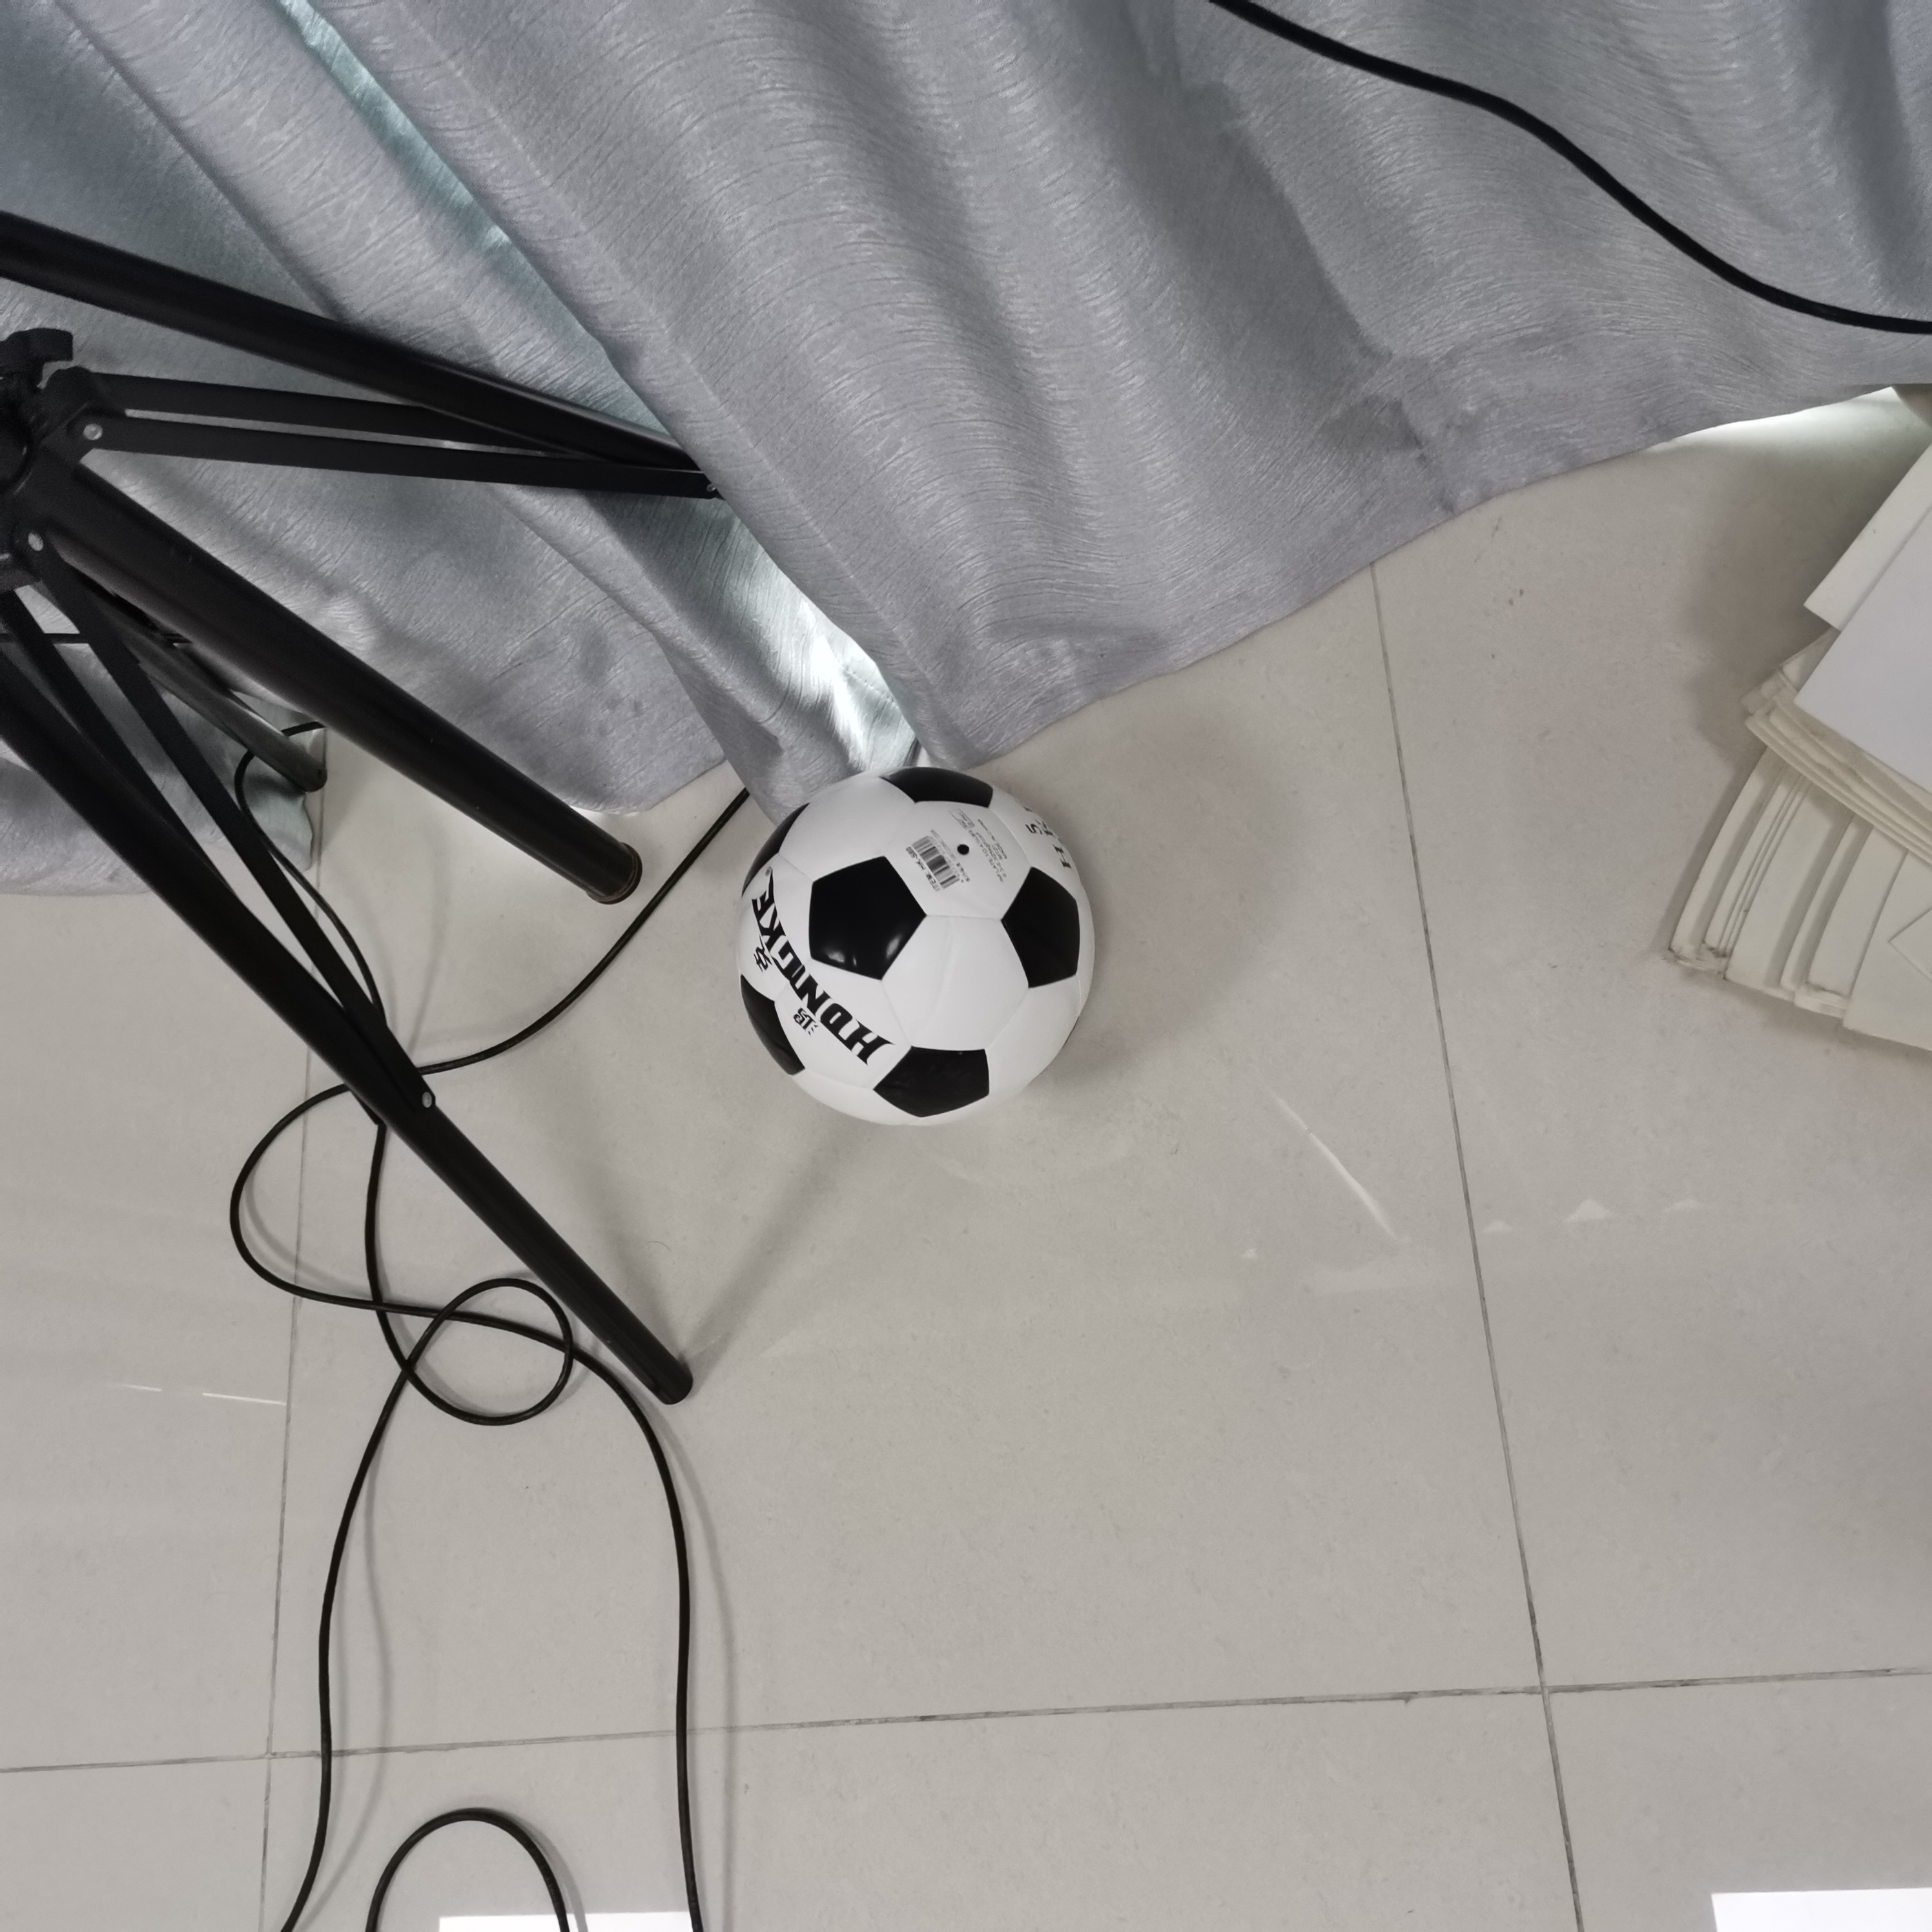football: (736, 770, 1104, 1134)
